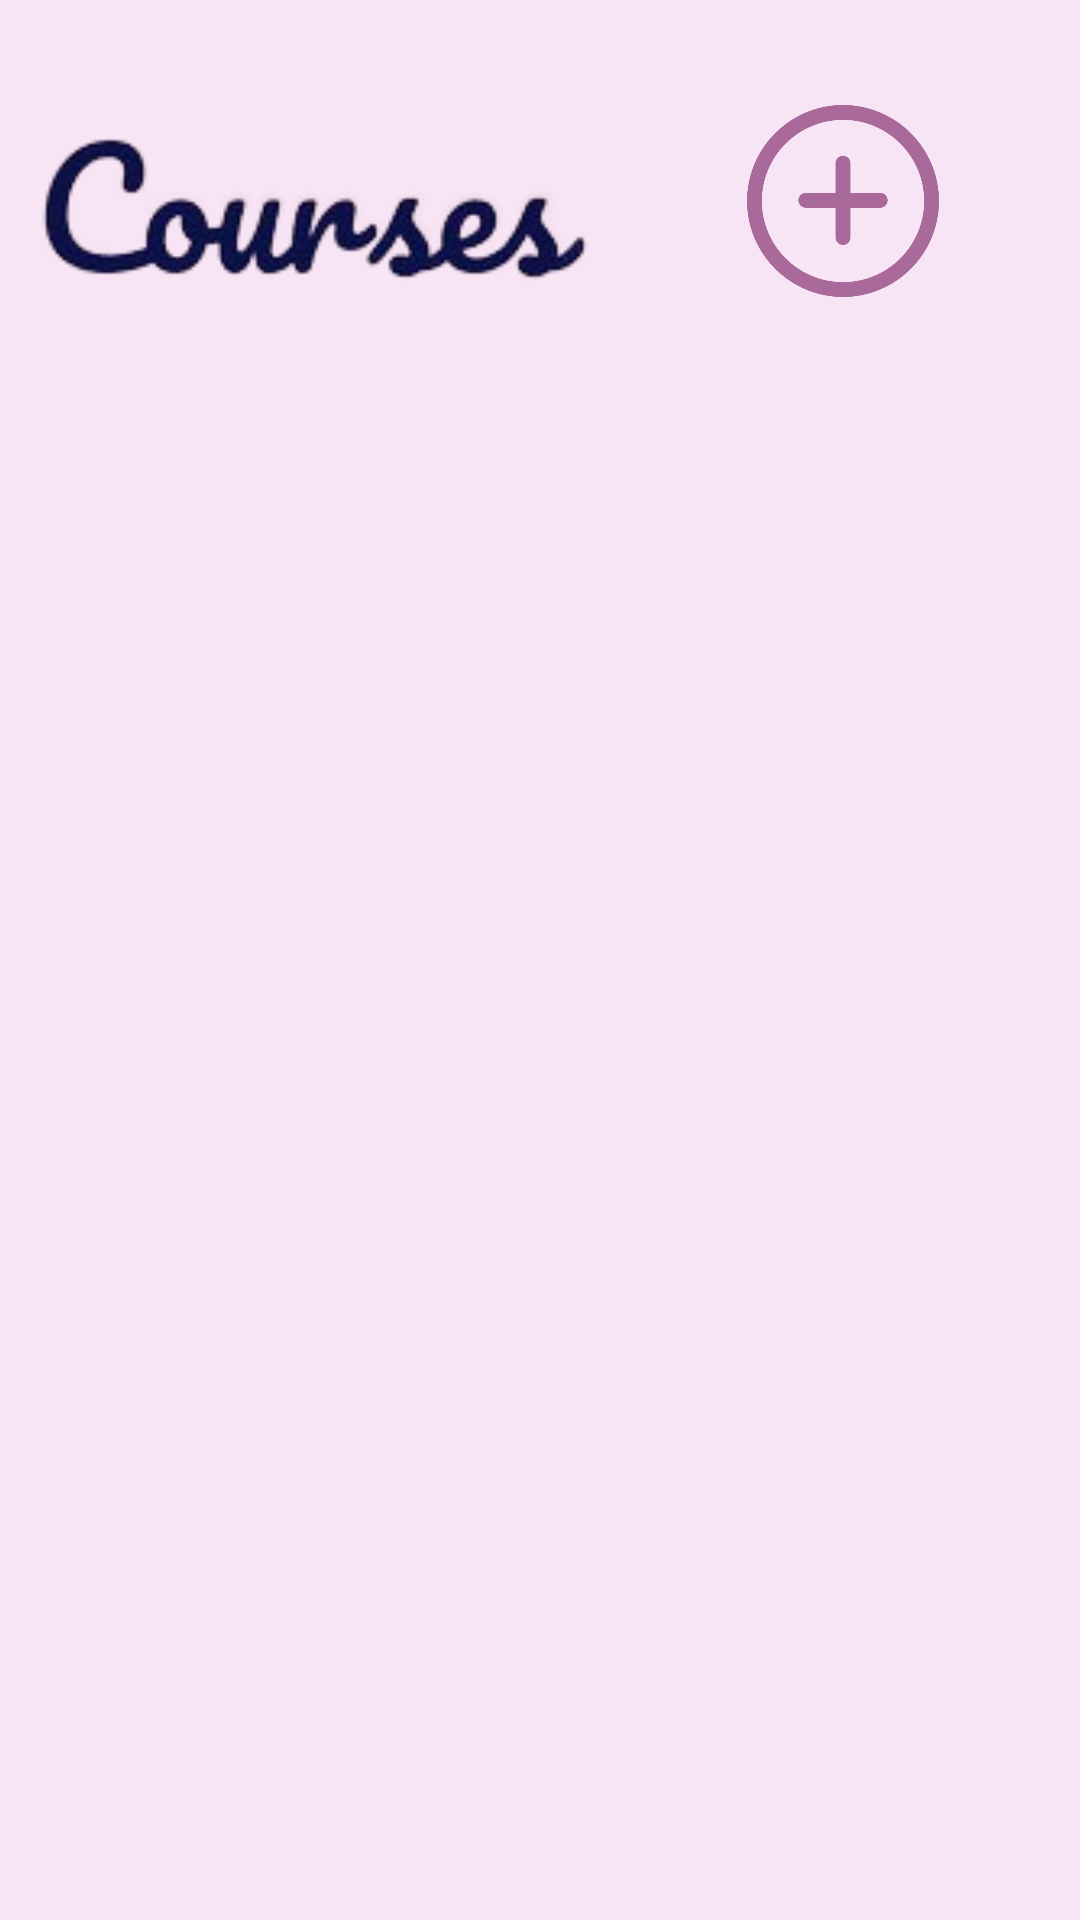

Locate icon controls on the screen. Image size 1080*1920, boxes as (x1, y1, x2, y2).
add: (747, 105, 939, 297)
